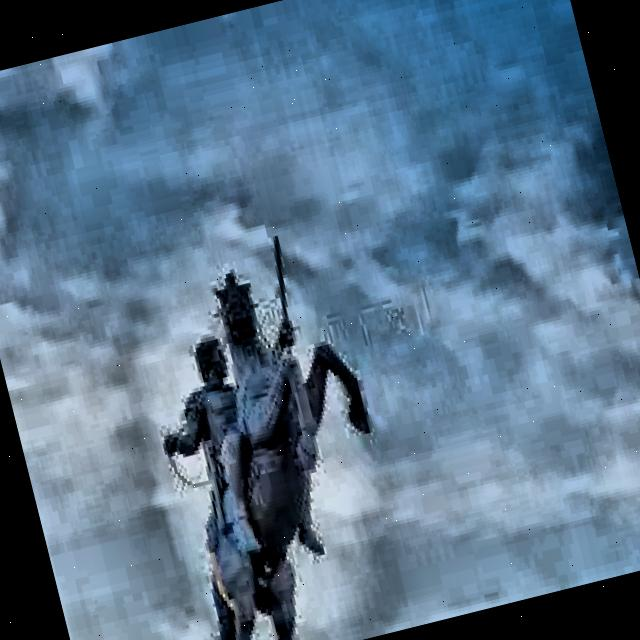alexander the great monument: (119, 209, 424, 640)
